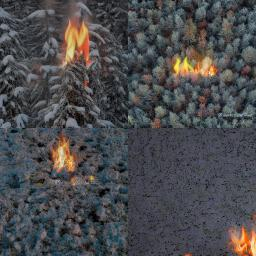Small fire: (47, 142, 98, 189), (158, 50, 230, 82), (57, 26, 103, 75), (232, 214, 256, 255)
